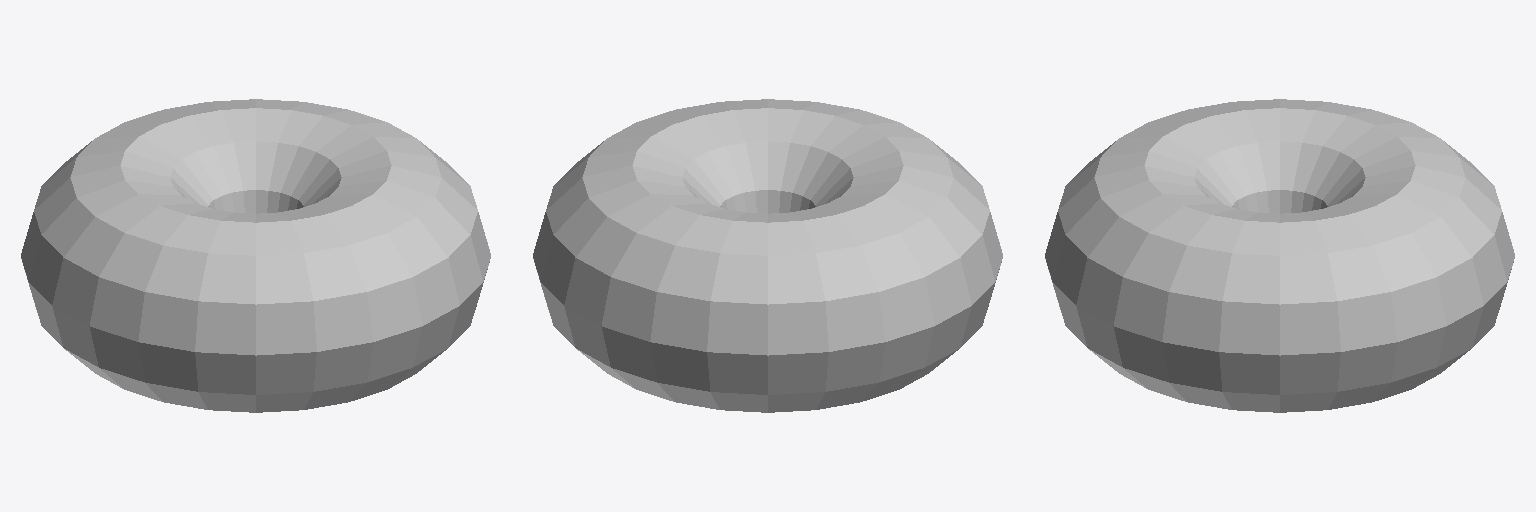
File: froot.obj
The picture shows the model from 3 angles: view 1: azimuth 30°, elevation 25°; view 2: azimuth 150°, elevation 25°; view 3: azimuth 270°, elevation 25°; orthographic projection.
Parts seen in each view (by area): view 1: Torus001; view 2: Torus001; view 3: Torus001.
Part boxes in pixels (x1,y1,x2,y2): Torus001: (21,99,490,412); Torus001: (533,99,1002,412); Torus001: (1045,99,1514,412).
Size of the model in its own units: 31.05 by 13.18 by 31.05.